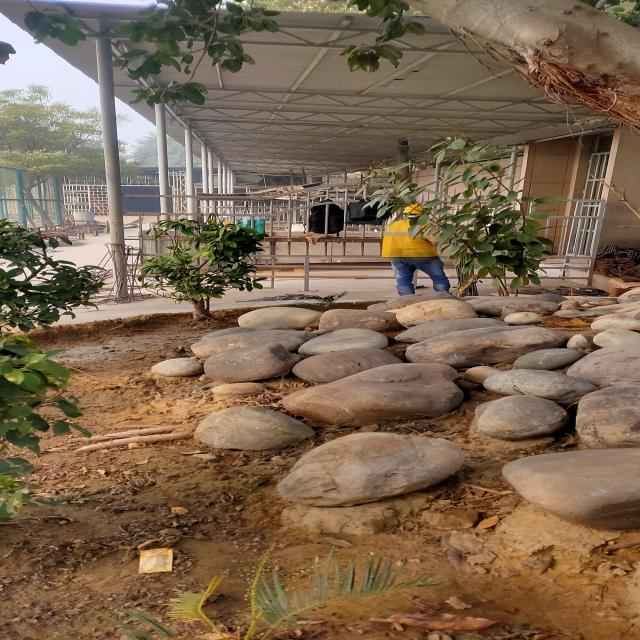safe: (384, 204, 447, 292)
